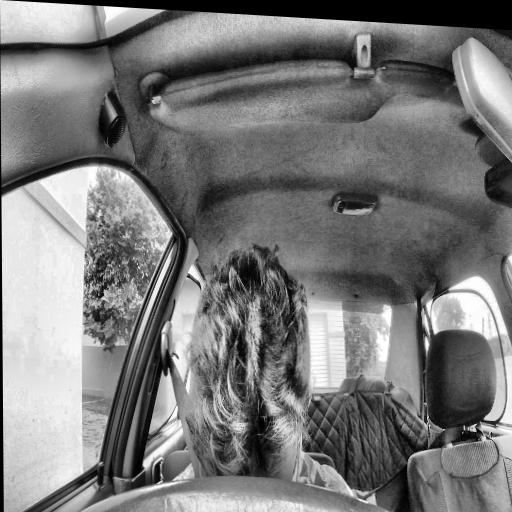drowsy: (185, 238, 311, 487)
